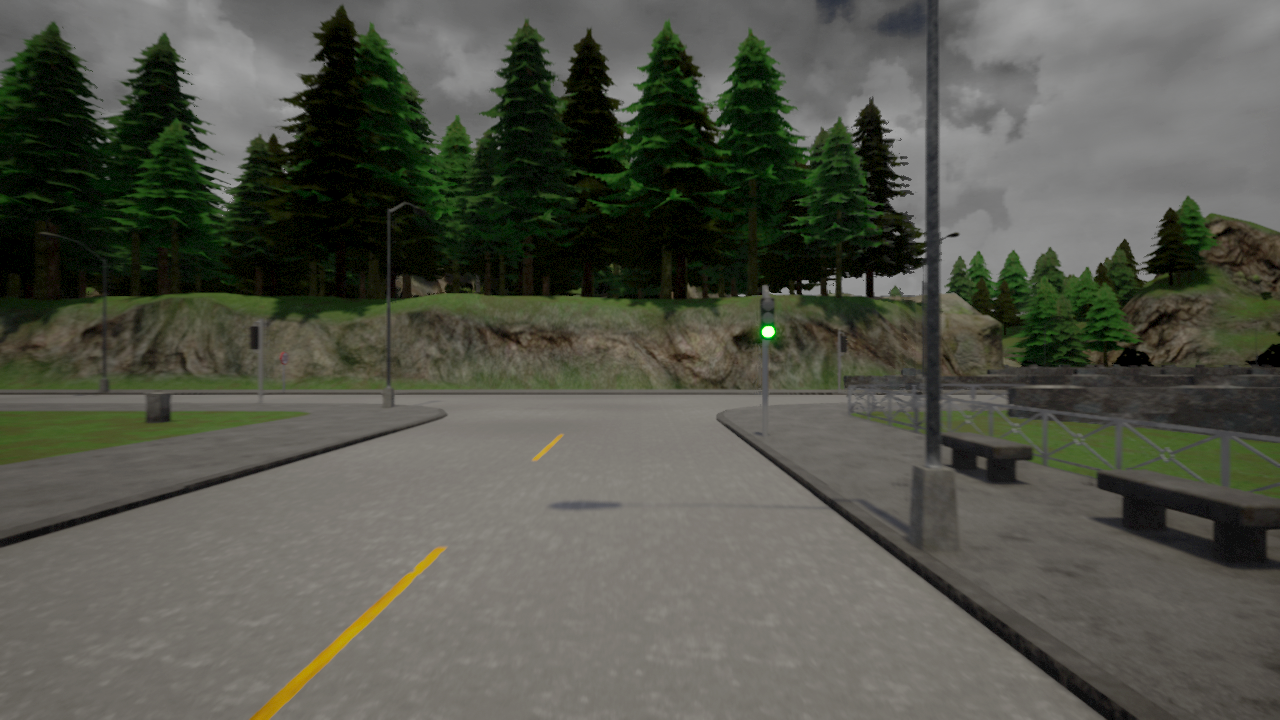green: (760, 296, 777, 337)
